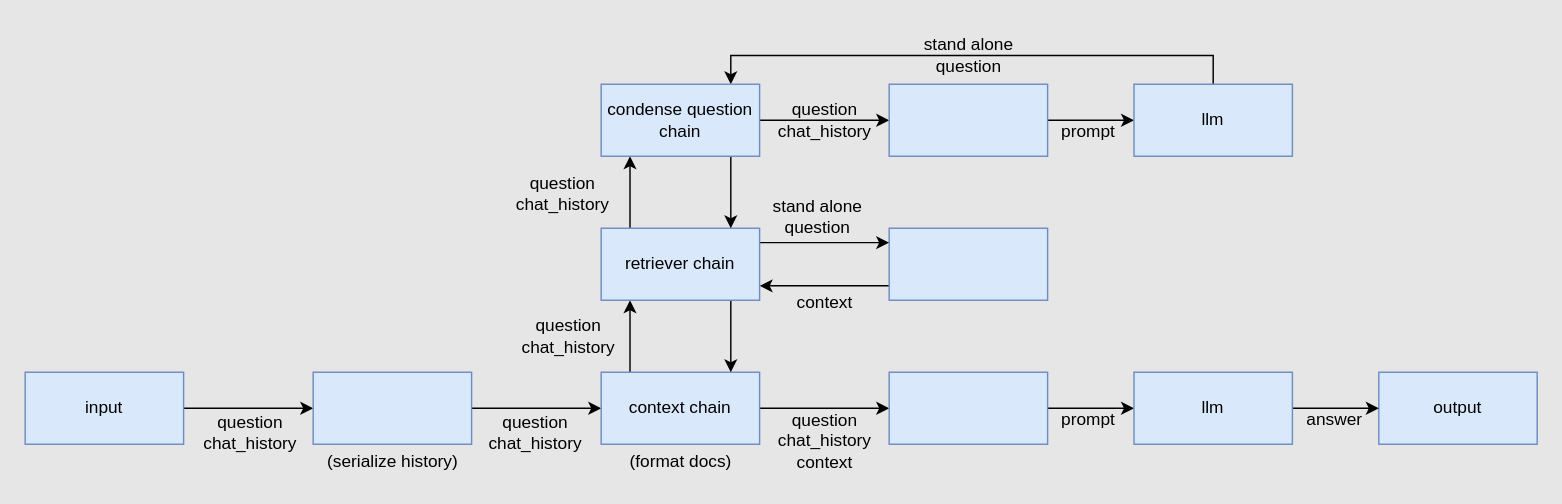
Image size: 1562x504. Some labels were removed from this diagram. Here are the shapes that lost their labels. From the top down, the centre of each, then its label:
At (968,119): "condense question prompt".
At (968,263): "vector store".
At (392,407): "input map".
At (968,407): "rag prompt".
